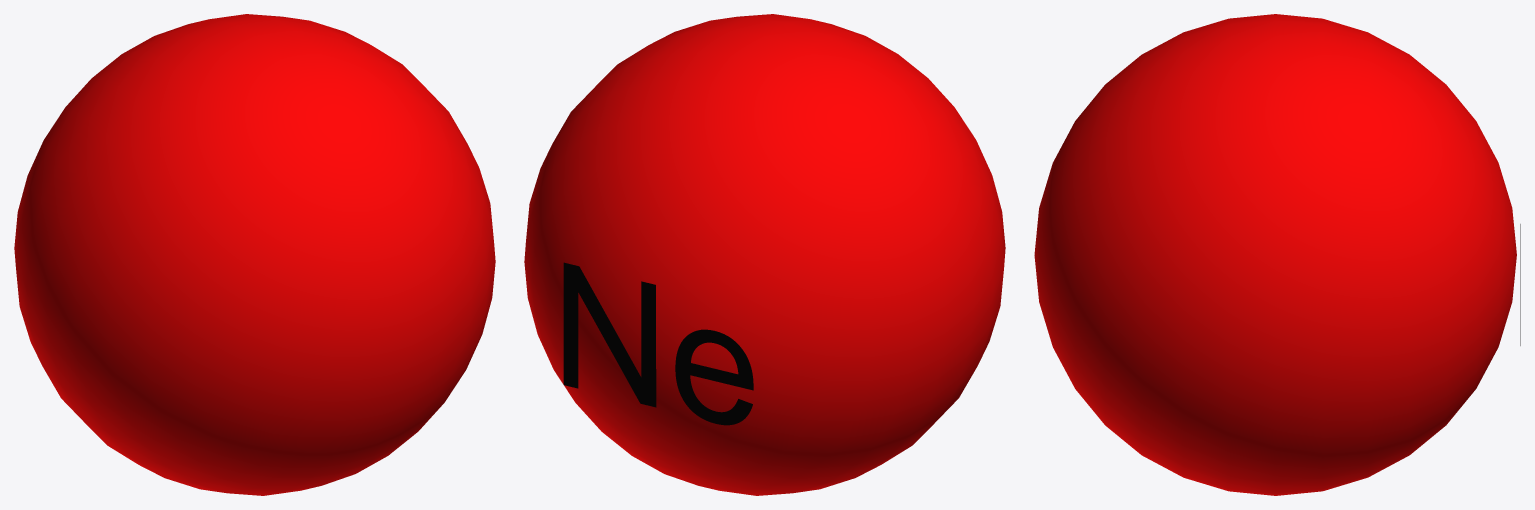
The picture shows the model from 3 angles, left to right: view 1: azimuth 30°, elevation 25°; view 2: azimuth 150°, elevation 25°; view 3: azimuth 270°, elevation 25°; orthographic projection.
Visible parts, largest first — view 1: Sphere002; view 2: Sphere002, Text002; view 3: Sphere002.
Boxes of the visible parts, bbox=[...] form: Sphere002: bbox=[14, 14, 495, 495]; Sphere002: bbox=[524, 14, 1005, 495]; Text002: bbox=[563, 262, 753, 425]; Sphere002: bbox=[1034, 14, 1516, 495].
Bounding box in the file's own units: 80 × 80 × 80.59.
